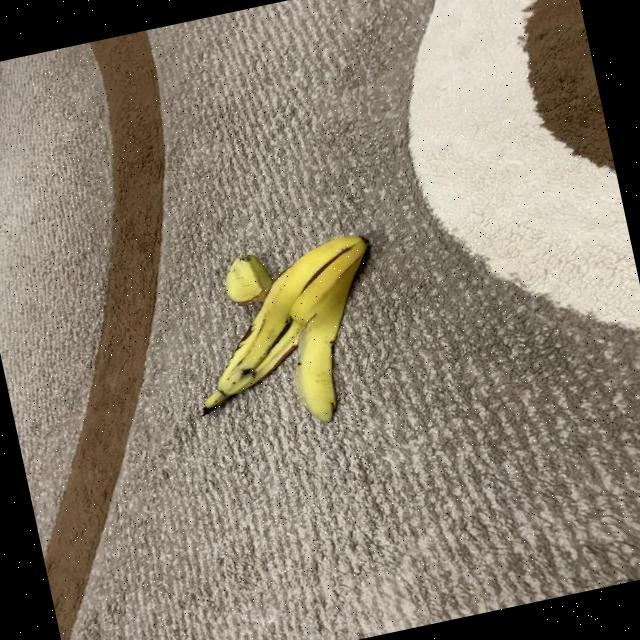banana-peel: (169, 227, 402, 448)
